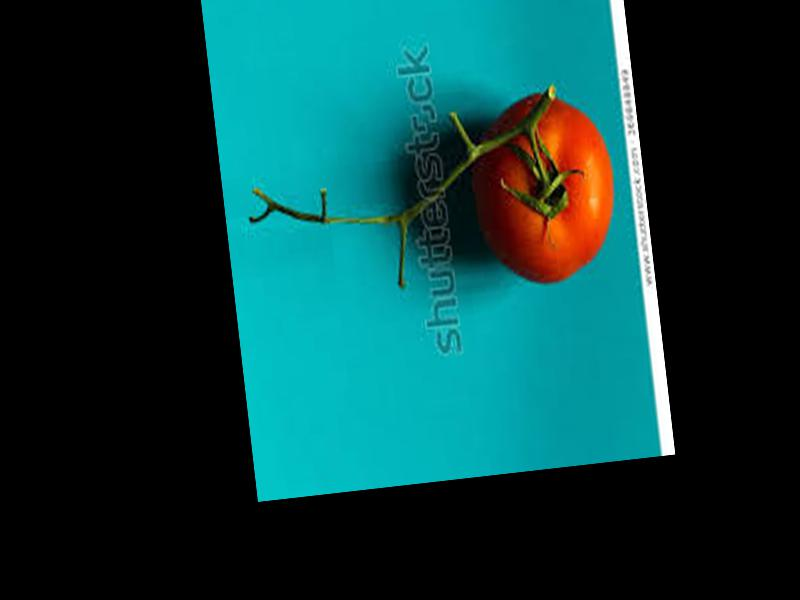Tomato: (466, 85, 621, 289)
